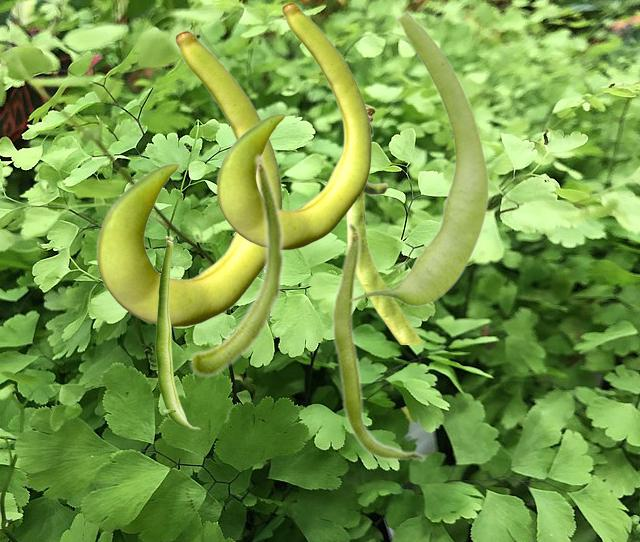french_bean: (96, 30, 282, 326), (348, 9, 489, 305), (216, 2, 371, 249), (330, 221, 426, 462), (188, 152, 285, 377), (346, 104, 422, 343), (155, 235, 200, 428)
